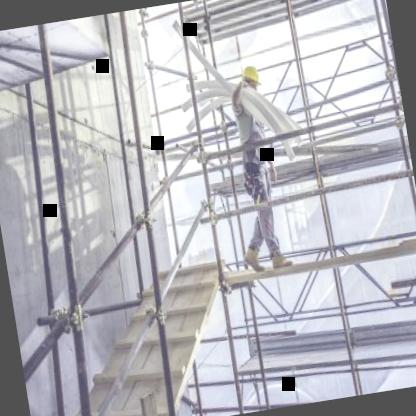helmet: (238, 64, 262, 100)
